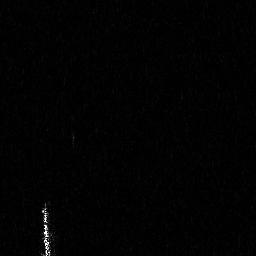ship: (36, 199, 53, 256)
